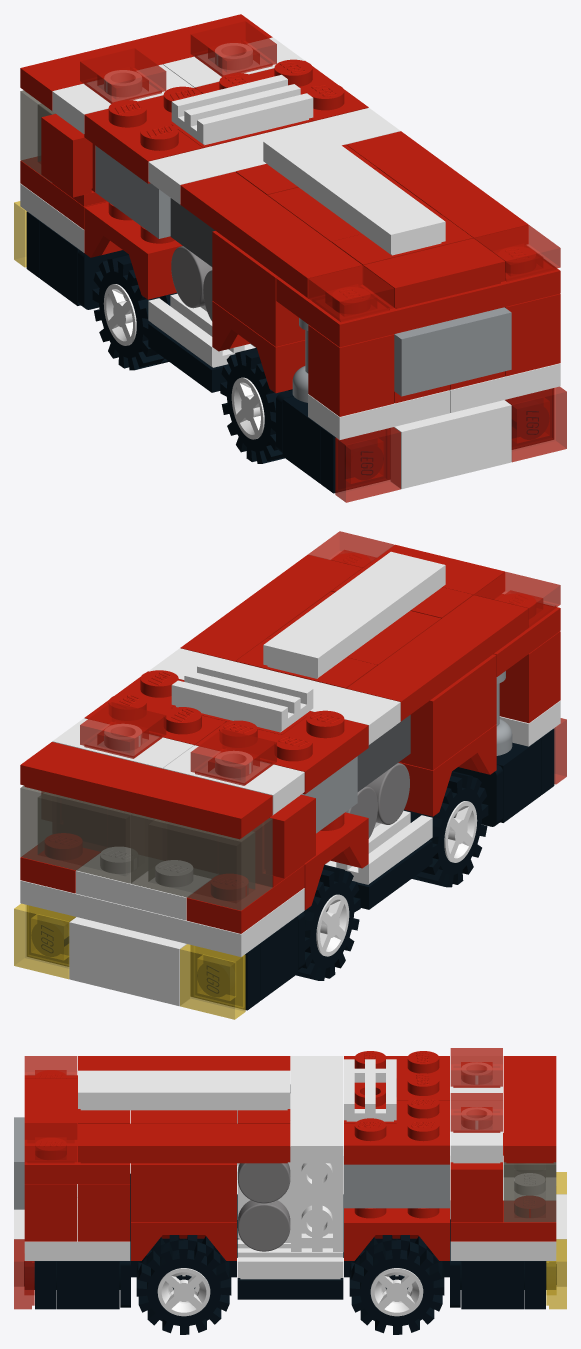
Rendered from Sketchfab20240213_200227.dae.
3 views of the same model, one above another, from view 1: azimuth 30°, elevation 25°; view 2: azimuth 150°, elevation 25°; view 3: azimuth 270°, elevation 25° (orthographic). The views are drawn at different scales.
Parts seen in each view (by area): view 1: Inner-Node-BOBBYBRIX__MINIMODELS__FIRETRUCK_dot_io-49, Inner-Node-BOBBYBRIX__MINIMODELS__FIRETRUCK_dot_io-48, Inner-Node-BOBBYBRIX__MINIMODELS__FIRETRUCK_dot_io-41, Inner-Node-BOBBYBRIX__MINIMODELS__FIRETRUCK_dot_io-46, Inner-Node-SubModel__Group__6-0, Inner-Node-SubModel__Group__10-2, Inner-Node-BOBBYBRIX__MINIMODELS__FIRETRUCK_dot_io-51, Inner-Node-SubModel__Group__3-1 (×2), Inner-Node-SubModel__Group__13-0 (×2), Inner-Node-SubModel__Group__13-1 (×2), Inner-Node-BOBBYBRIX__MINIMODELS__FIRETRUCK_dot_io-40, Inner-Node-SubModel__Group__14-1 (+34 smaller); view 2: Inner-Node-BOBBYBRIX__MINIMODELS__FIRETRUCK_dot_io-51, Inner-Node-BOBBYBRIX__MINIMODELS__FIRETRUCK_dot_io-49, Inner-Node-BOBBYBRIX__MINIMODELS__FIRETRUCK_dot_io-50, Inner-Node-BOBBYBRIX__MINIMODELS__FIRETRUCK_dot_io-48, Inner-Node-BOBBYBRIX__MINIMODELS__FIRETRUCK_dot_io-52, Inner-Node-SubModel__Group__5-0, Inner-Node-SubModel__Group__13-0 (×2), Inner-Node-SubModel__Group__3-1 (×2), Inner-Node-SubModel__Group__13-1 (×2), Inner-Node-BOBBYBRIX__MINIMODELS__FIRETRUCK_dot_io-46, Inner-Node-SubModel__Group__7-0, Inner-Node-BOBBYBRIX__MINIMODELS__FIRETRUCK_dot_io-37 (+36 smaller); view 3: Inner-Node-SubModel__Group__3-1 (×2), Inner-Node-BOBBYBRIX__MINIMODELS__FIRETRUCK_dot_io-46, Inner-Node-BOBBYBRIX__MINIMODELS__FIRETRUCK_dot_io-49, Inner-Node-BOBBYBRIX__MINIMODELS__FIRETRUCK_dot_io-21, Inner-Node-BOBBYBRIX__MINIMODELS__FIRETRUCK_dot_io-36, Inner-Node-BOBBYBRIX__MINIMODELS__FIRETRUCK_dot_io-51, Inner-Node-BOBBYBRIX__MINIMODELS__FIRETRUCK_dot_io-38, Inner-Node-SubModel__Group__13-0 (×2), Inner-Node-SubModel__Group__11-2, Inner-Node-SubModel__Group__13-1 (×2), Inner-Node-BOBBYBRIX__MINIMODELS__FIRETRUCK_dot_io-10, Inner-Node-SubModel__Group__3-0 (×2) (+37 smaller).
Boxes of the visible parts, bbox=[...] form: Inner-Node-BOBBYBRIX__MINIMODELS__FIRETRUCK_dot_io-49: bbox=[263, 128, 445, 255]; Inner-Node-BOBBYBRIX__MINIMODELS__FIRETRUCK_dot_io-48: bbox=[180, 172, 362, 298]; Inner-Node-BOBBYBRIX__MINIMODELS__FIRETRUCK_dot_io-41: bbox=[276, 247, 560, 347]; Inner-Node-BOBBYBRIX__MINIMODELS__FIRETRUCK_dot_io-46: bbox=[346, 131, 528, 250]; Inner-Node-SubModel__Group__6-0: bbox=[391, 400, 511, 489]; Inner-Node-SubModel__Group__10-2: bbox=[394, 307, 511, 396]; Inner-Node-BOBBYBRIX__MINIMODELS__FIRETRUCK_dot_io-51: bbox=[20, 14, 272, 110]; Inner-Node-SubModel__Group__3-1 (×2): bbox=[92, 254, 292, 463]; Inner-Node-SubModel__Group__13-0 (×2): bbox=[52, 37, 304, 133]; Inner-Node-SubModel__Group__13-1 (×2): bbox=[80, 21, 276, 103]; Inner-Node-BOBBYBRIX__MINIMODELS__FIRETRUCK_dot_io-40: bbox=[363, 238, 505, 308]; Inner-Node-SubModel__Group__14-1: bbox=[171, 74, 313, 145]; Inner-Node-BOBBYBRIX__MINIMODELS__FIRETRUCK_dot_io-51: bbox=[20, 742, 272, 839]; Inner-Node-BOBBYBRIX__MINIMODELS__FIRETRUCK_dot_io-49: bbox=[263, 551, 445, 678]; Inner-Node-BOBBYBRIX__MINIMODELS__FIRETRUCK_dot_io-50: bbox=[131, 813, 272, 910]; Inner-Node-BOBBYBRIX__MINIMODELS__FIRETRUCK_dot_io-48: bbox=[346, 595, 528, 721]; Inner-Node-BOBBYBRIX__MINIMODELS__FIRETRUCK_dot_io-52: bbox=[20, 785, 154, 883]; Inner-Node-SubModel__Group__5-0: bbox=[69, 917, 189, 1006]; Inner-Node-SubModel__Group__13-0 (×2): bbox=[52, 718, 304, 815]; Inner-Node-SubModel__Group__3-1 (×2): bbox=[296, 771, 488, 980]; Inner-Node-SubModel__Group__13-1 (×2): bbox=[80, 702, 276, 785]; Inner-Node-BOBBYBRIX__MINIMODELS__FIRETRUCK_dot_io-46: bbox=[180, 554, 362, 661]; Inner-Node-SubModel__Group__7-0: bbox=[20, 880, 304, 956]; Inner-Node-BOBBYBRIX__MINIMODELS__FIRETRUCK_dot_io-37: bbox=[195, 710, 368, 794]; Inner-Node-SubModel__Group__3-1 (×2): bbox=[136, 1235, 444, 1334]; Inner-Node-BOBBYBRIX__MINIMODELS__FIRETRUCK_dot_io-46: bbox=[78, 1123, 290, 1163]; Inner-Node-BOBBYBRIX__MINIMODELS__FIRETRUCK_dot_io-49: bbox=[78, 1070, 290, 1110]; Inner-Node-BOBBYBRIX__MINIMODELS__FIRETRUCK_dot_io-21: bbox=[131, 1163, 236, 1222]; Inner-Node-BOBBYBRIX__MINIMODELS__FIRETRUCK_dot_io-36: bbox=[290, 1056, 343, 1163]; Inner-Node-BOBBYBRIX__MINIMODELS__FIRETRUCK_dot_io-51: bbox=[503, 1056, 556, 1163]; Inner-Node-BOBBYBRIX__MINIMODELS__FIRETRUCK_dot_io-38: bbox=[344, 1096, 449, 1164]; Inner-Node-SubModel__Group__13-0 (×2): bbox=[450, 1056, 502, 1163]; Inner-Node-SubModel__Group__11-2: bbox=[344, 1164, 449, 1208]; Inner-Node-SubModel__Group__13-1 (×2): bbox=[450, 1048, 502, 1132]; Inner-Node-BOBBYBRIX__MINIMODELS__FIRETRUCK_dot_io-10: bbox=[344, 1208, 449, 1260]; Inner-Node-SubModel__Group__3-0 (×2): bbox=[157, 1268, 423, 1316].
Size of the model in its own units: 87.75 by 87.19 by 208.
